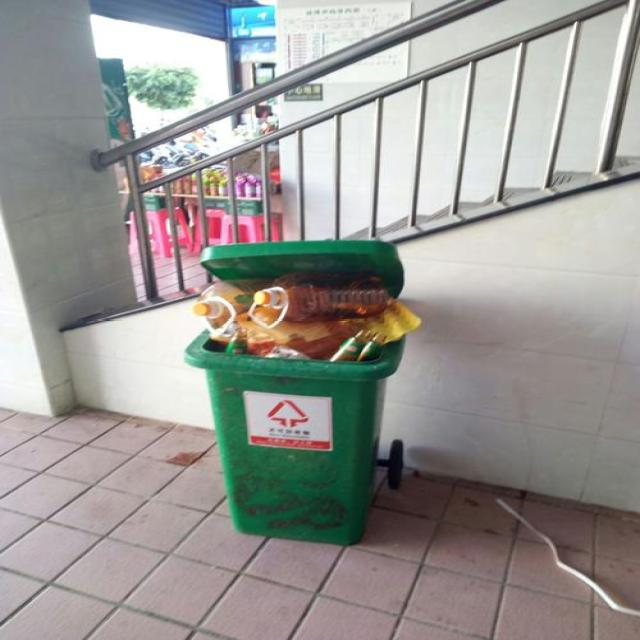overflow: (182, 238, 420, 544)
